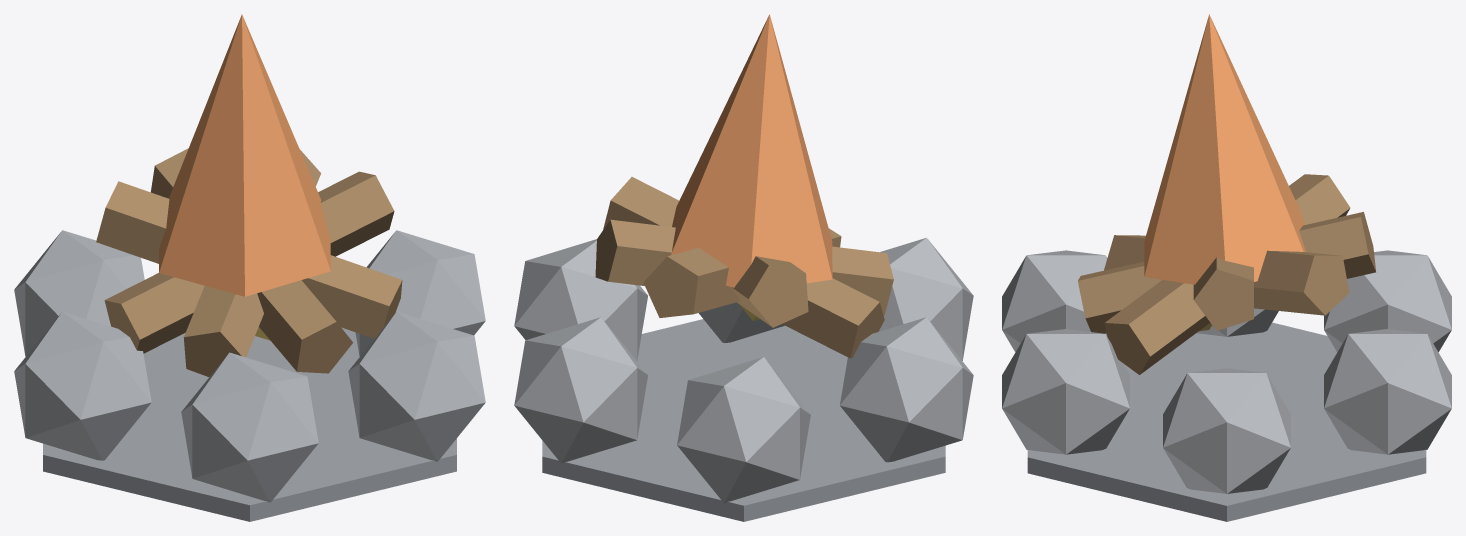
The model's file is animprop_campfire_04.glb.
3 views of the same model, side by side, from view 1: azimuth 30°, elevation 25°; view 2: azimuth 150°, elevation 25°; view 3: azimuth 270°, elevation 25° (orthographic). The views are drawn at different scales.
Parts seen in each view (by area): view 1: animprop; view 2: animprop; view 3: animprop.
Part boxes in pixels (left/top/right/bottom): animprop: left=14, top=14, right=485, bottom=521; animprop: left=514, top=14, right=973, bottom=521; animprop: left=1002, top=14, right=1451, bottom=521.
Bounding box in the file's own units: 1.13 × 1 × 1.02.
